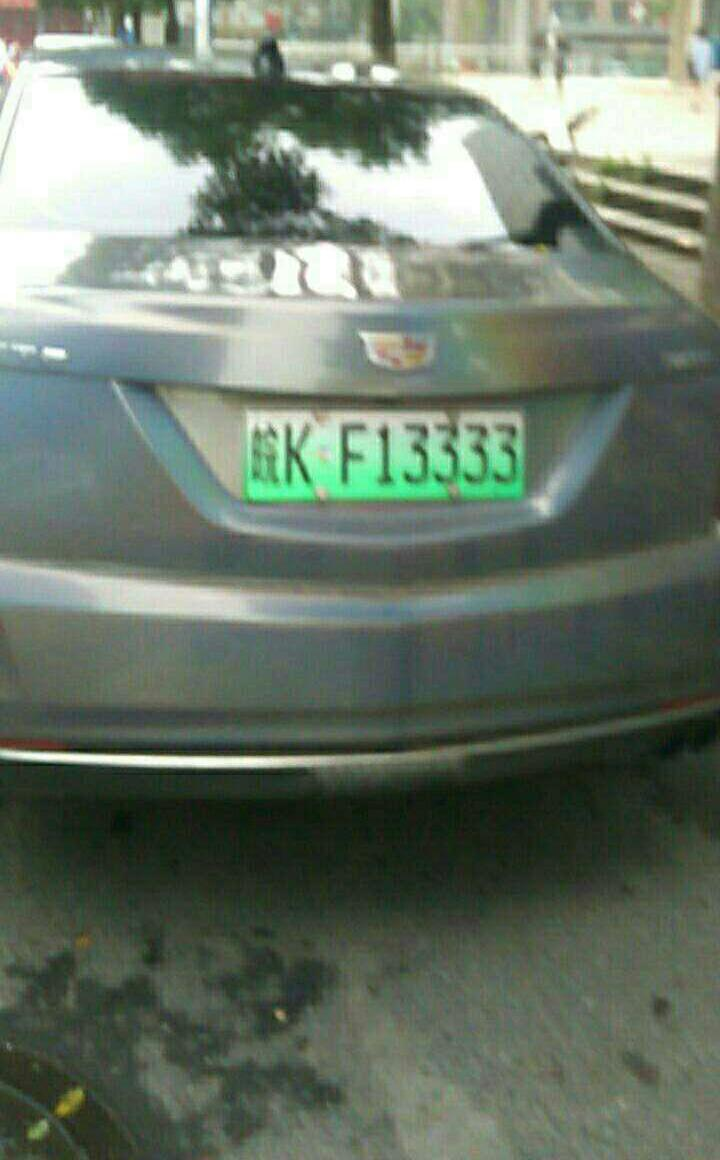car_id: (247, 411, 526, 503)
